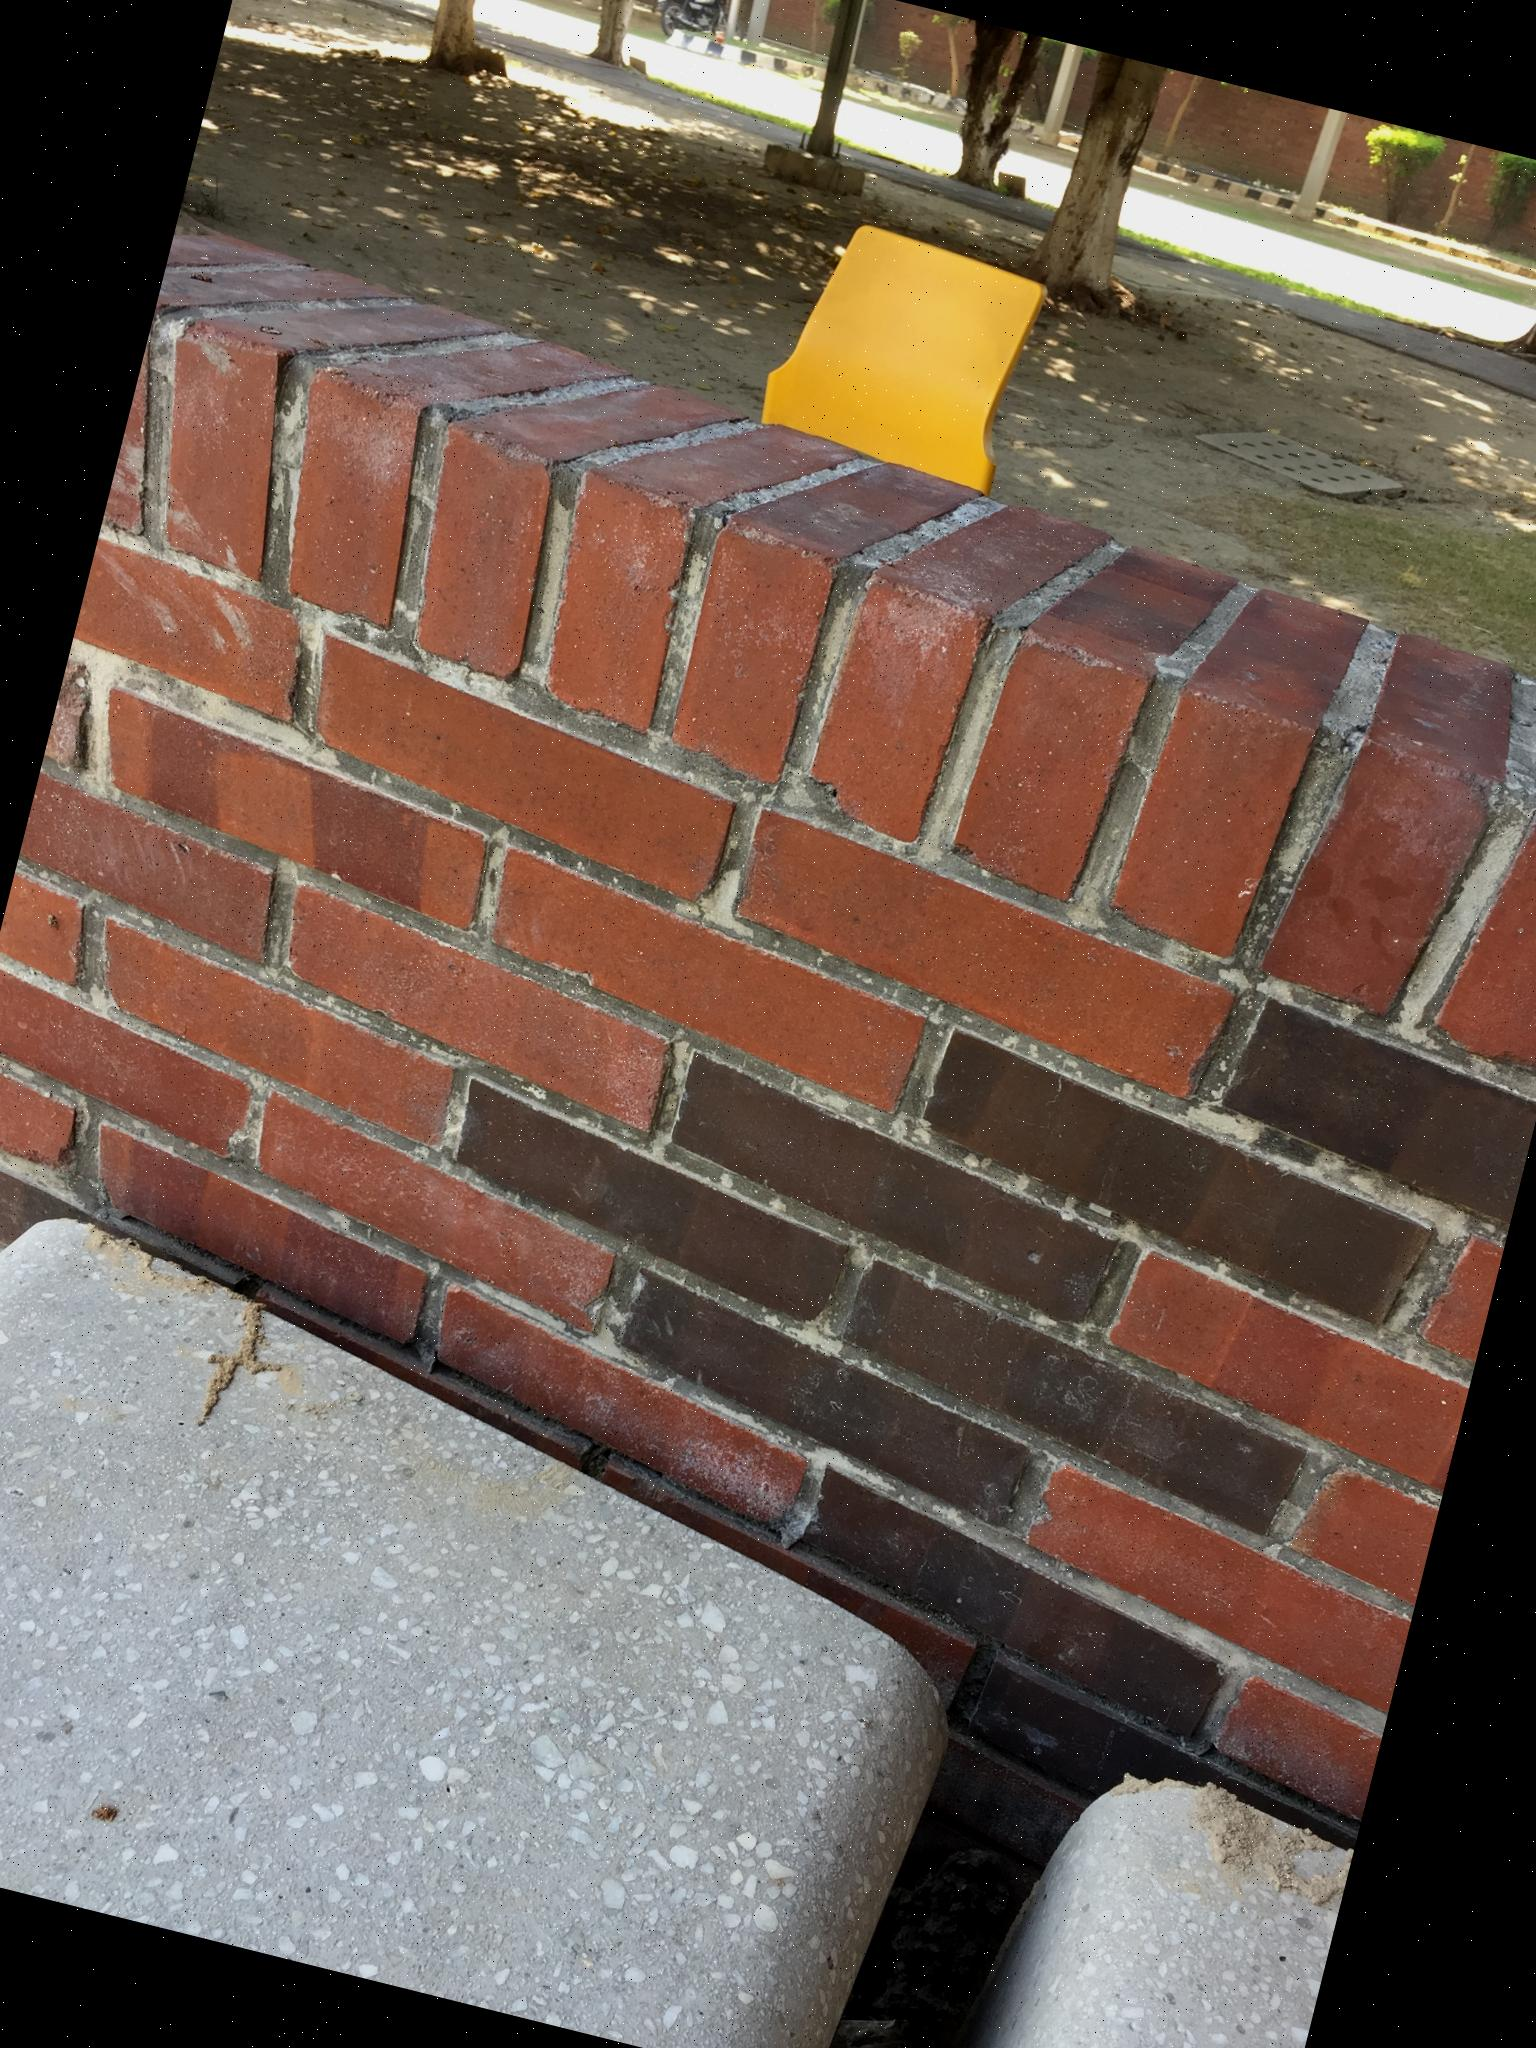chair: (750, 207, 1051, 497)
